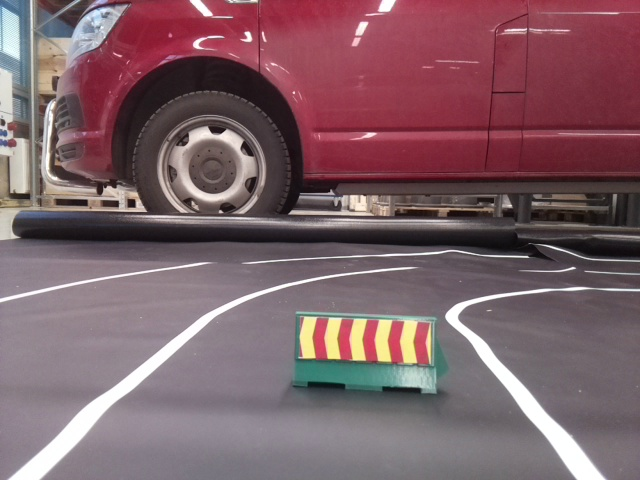ClosedRoadStand: (296, 313, 433, 394)
